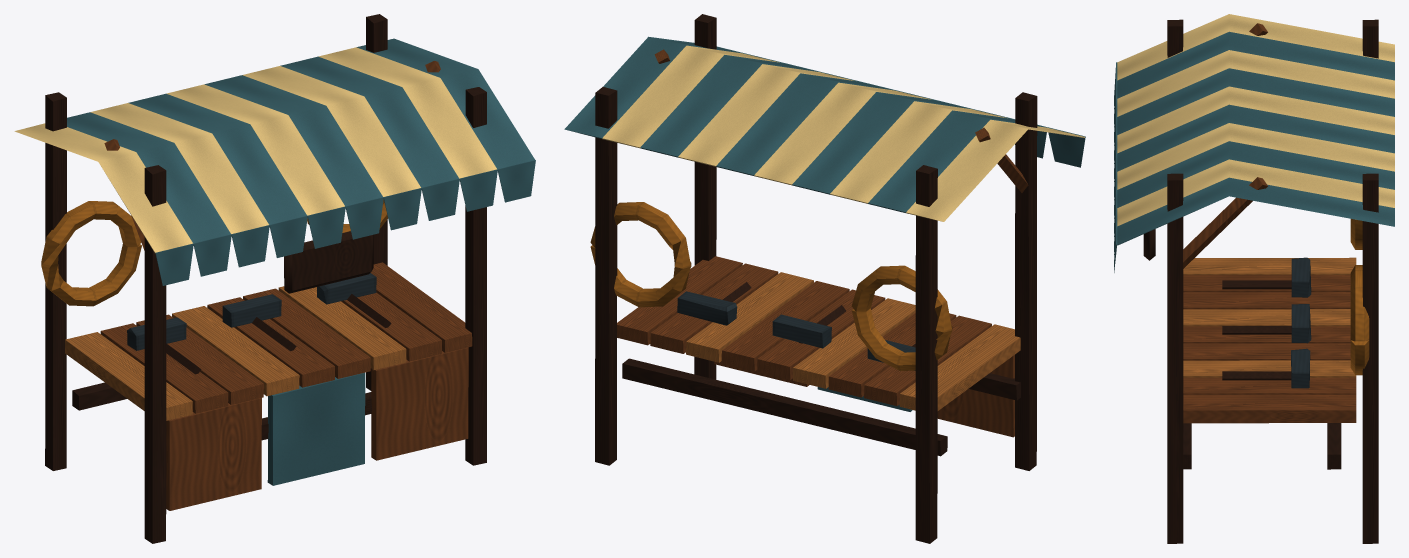
The model's file is Banca_de_ferramentas_LOD1.fbx.
3 renders of one model, left to right at view 1: azimuth 30°, elevation 25°; view 2: azimuth 150°, elevation 25°; view 3: azimuth 270°, elevation 25°, orthographic.
Visible parts, largest first — view 1: Banca_de_ferramentas_LOD1; view 2: Banca_de_ferramentas_LOD1; view 3: Banca_de_ferramentas_LOD1.
Boxes of the visible parts, left/top/right/bottom form: Banca_de_ferramentas_LOD1: left=14, top=14, right=535, bottom=543; Banca_de_ferramentas_LOD1: left=564, top=14, right=1085, bottom=543; Banca_de_ferramentas_LOD1: left=1114, top=14, right=1394, bottom=543.
Bounding box in the file's own units: 320 × 298 × 208.
1 material, 1 textured.
